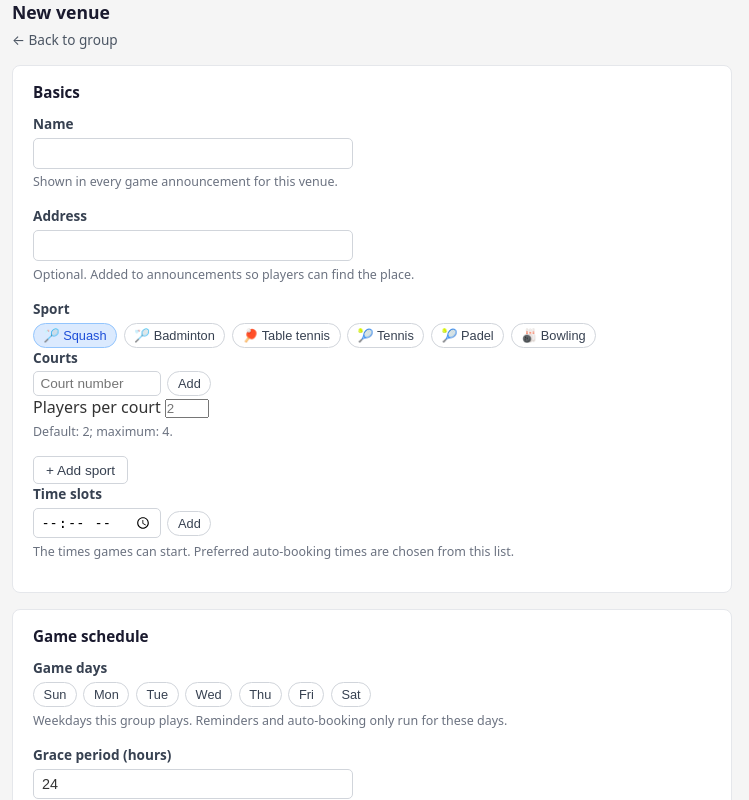
Test: VenueFormPage — new venue › requires a name and at least one court
Name is filled so the browser lets the submit through to our own checks.
Type "SquashPoint" into the field labelled "Name" at (193, 153), box x1=33 y1=138 x2=353 y2=169
(page scrolled)
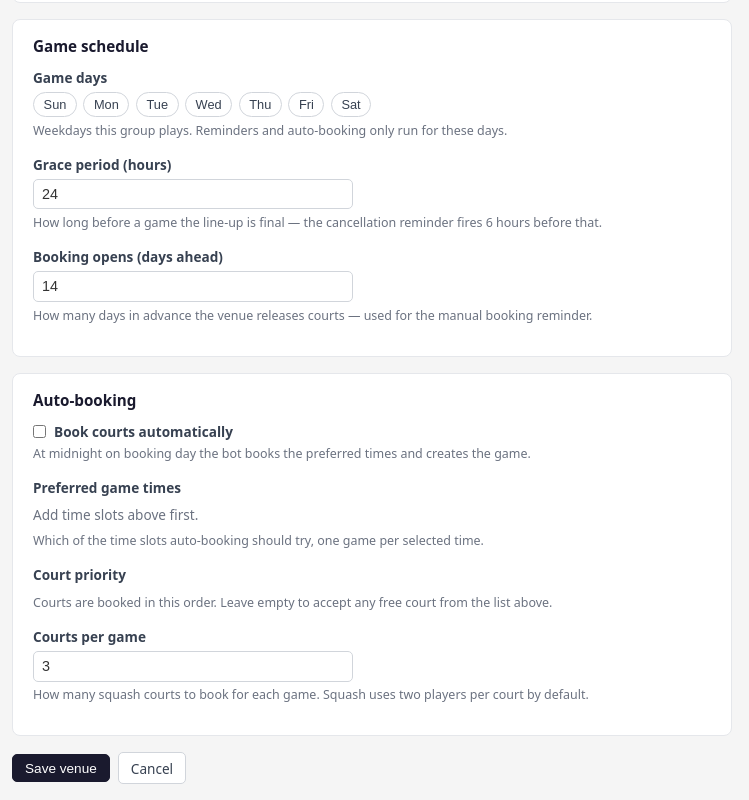
Click the button "Save venue" at (61, 768), box x1=12 y1=754 x2=110 y2=782
(page scrolled)
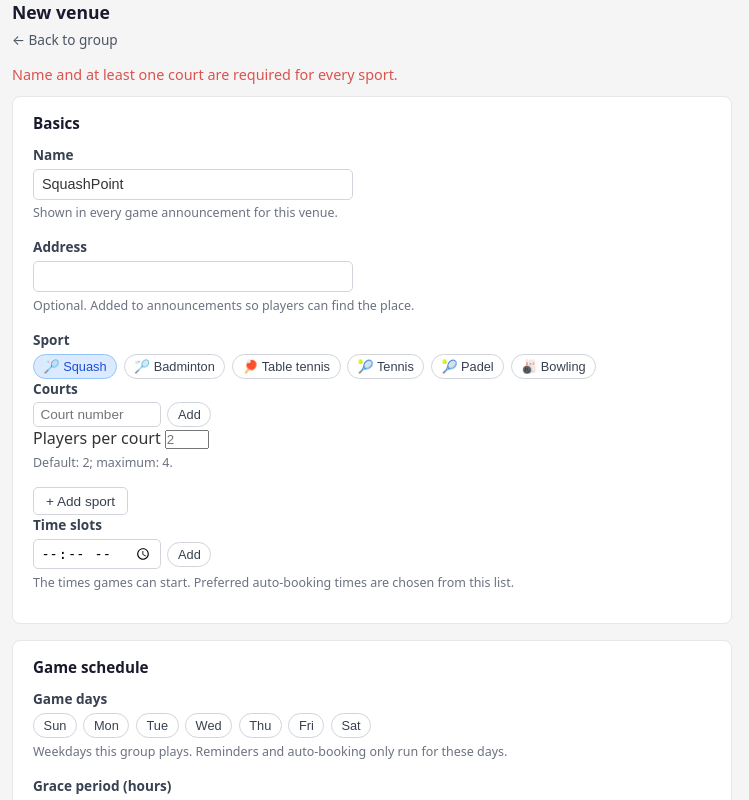
Check: the text "Name and at least one court are required for every sport." is shown, box x1=12 y1=65 x2=398 y2=84
